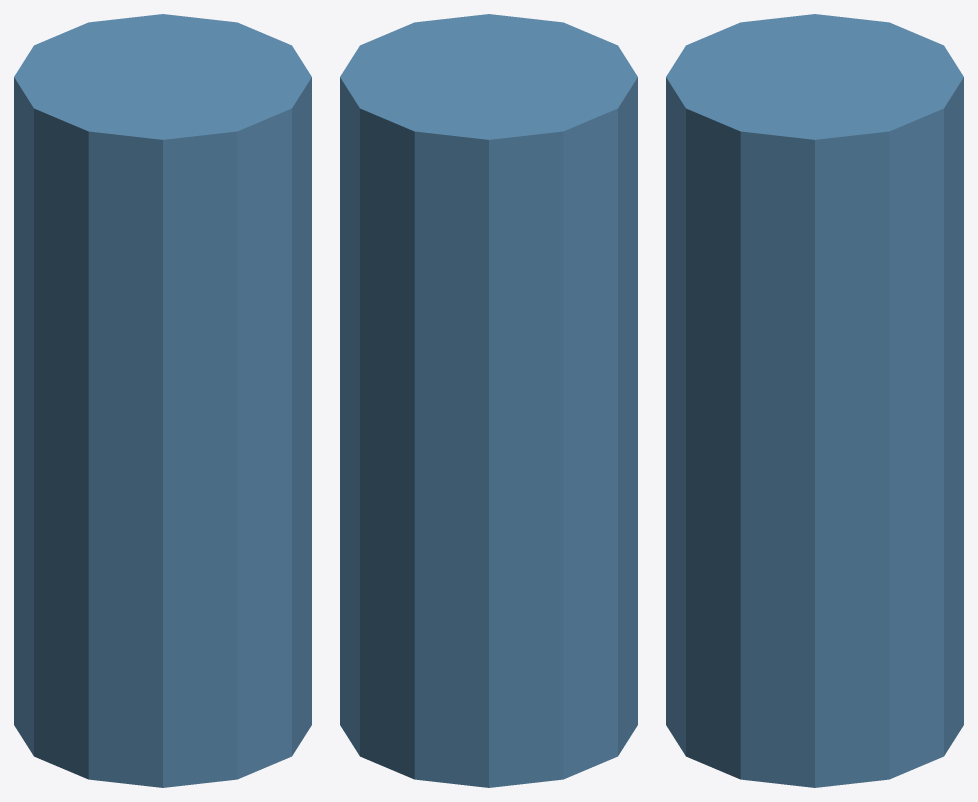
File: air_stand.glb
The picture shows the model from 3 angles, left to right: view 1: azimuth 30°, elevation 25°; view 2: azimuth 150°, elevation 25°; view 3: azimuth 270°, elevation 25°; orthographic projection.
Parts seen in each view (by area): view 1: air_stand; view 2: air_stand; view 3: air_stand.
Part boxes in pixels (x1=…): air_stand: x1=14, y1=14, x2=311, y2=787; air_stand: x1=340, y1=14, x2=637, y2=787; air_stand: x1=666, y1=14, x2=963, y2=787.
Size of the model in its own units: 0.5 by 1.2 by 0.5.
